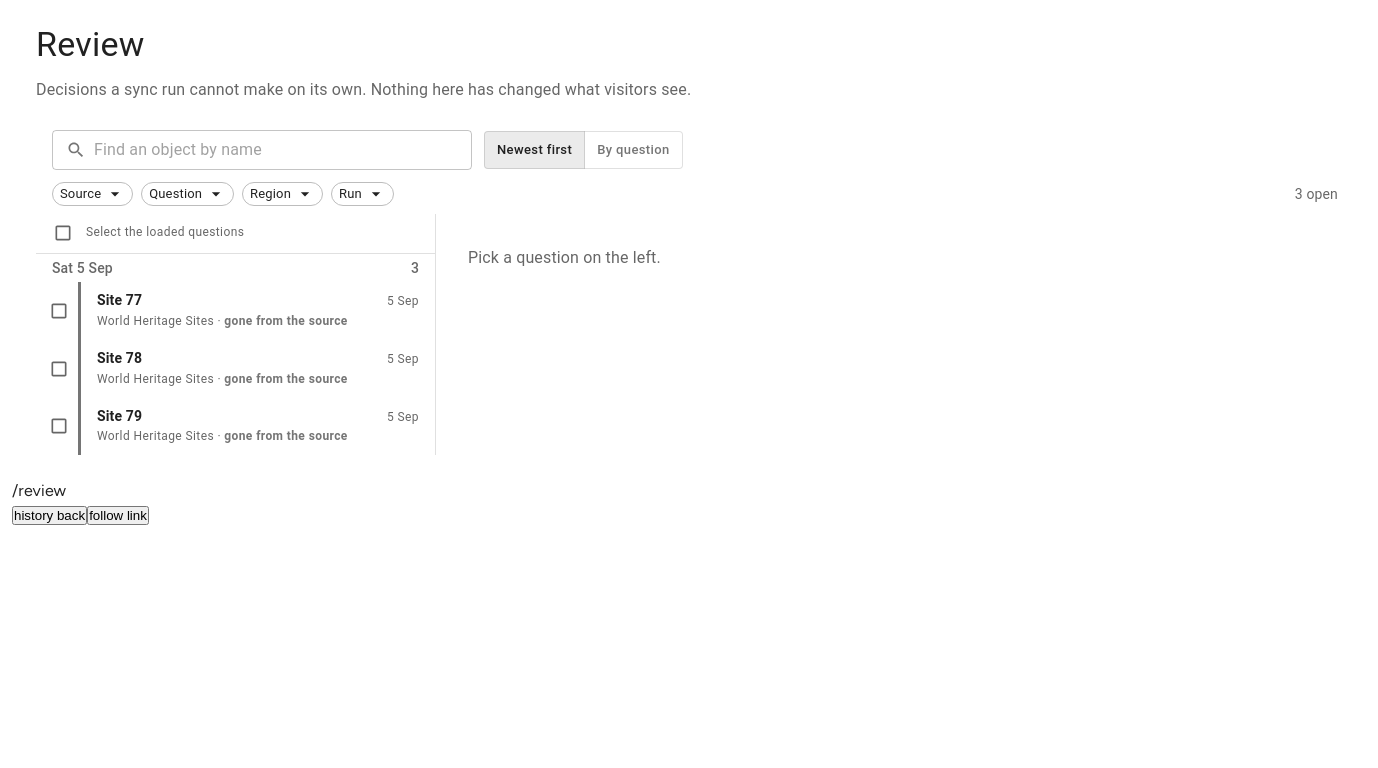
Test: ReviewPage › keeps the row Back restored, even when Back changes the filter with it
Click the button "Site 79 5 Sep World Heritage Sites · gone from the source": (120, 416) left=78, top=398, right=435, bottom=455
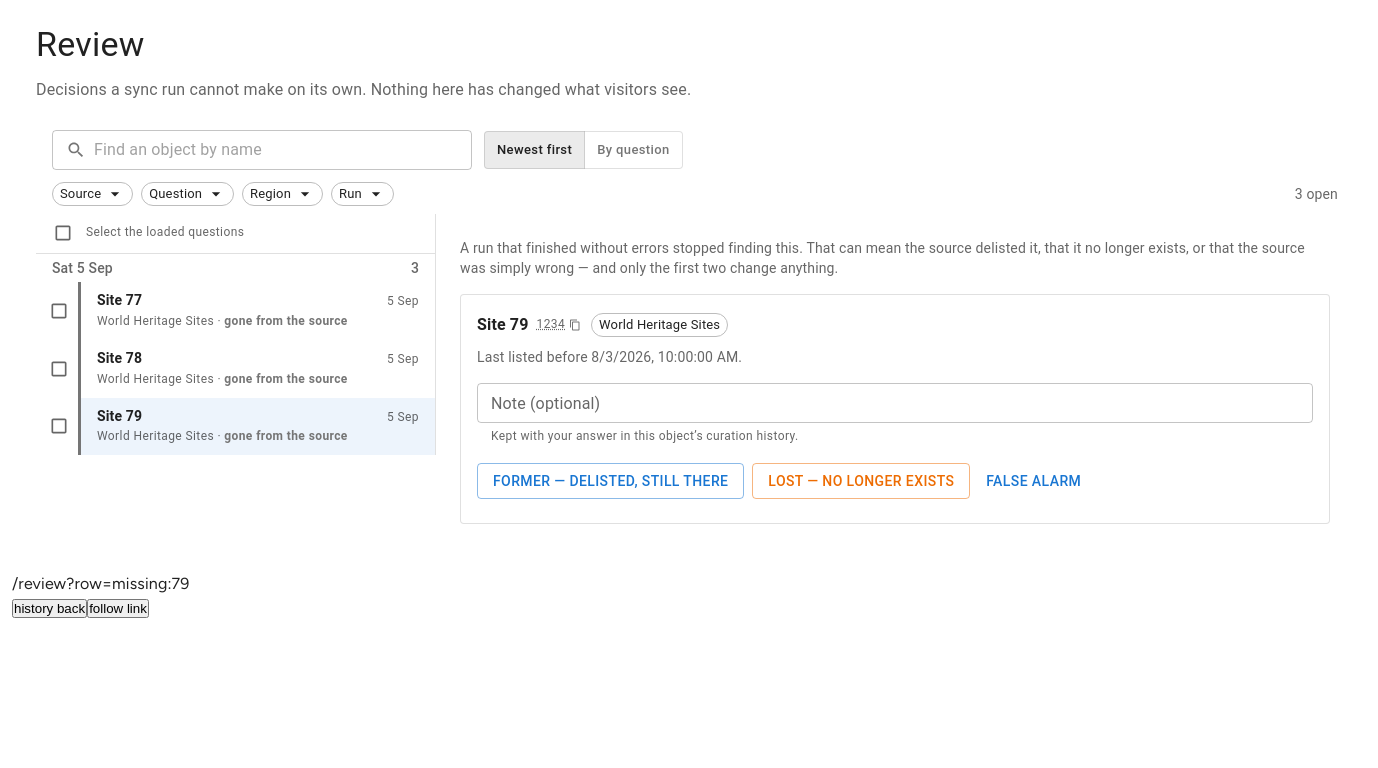
Check: the text with test id "address" reads "/review?row=missing:79", box left=12, top=574, right=190, bottom=593
Click the button "Question": (188, 194) left=141, top=182, right=234, bottom=206
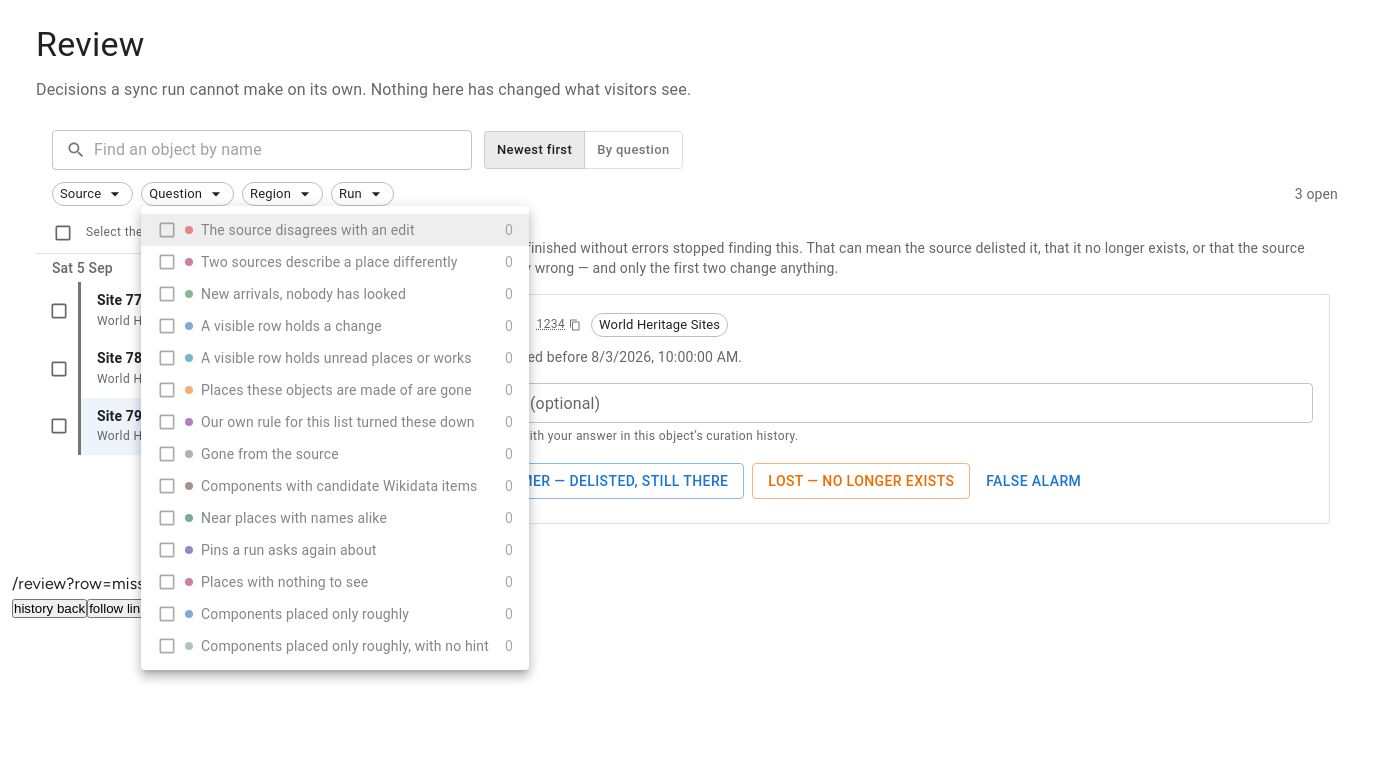
Click the menu item "Gone from the source 0": (335, 454) left=141, top=438, right=529, bottom=470
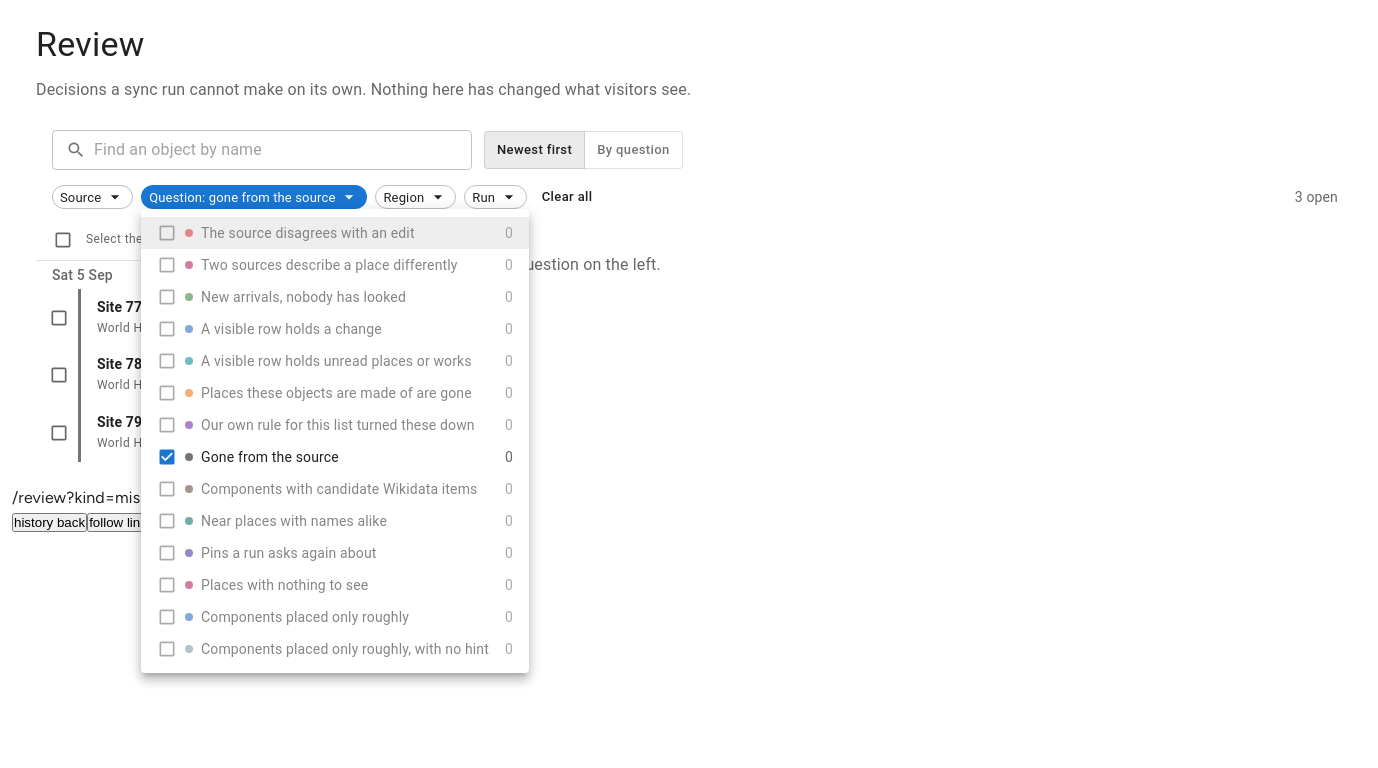
Press Escape in the menu, box left=141, top=209, right=529, bottom=673
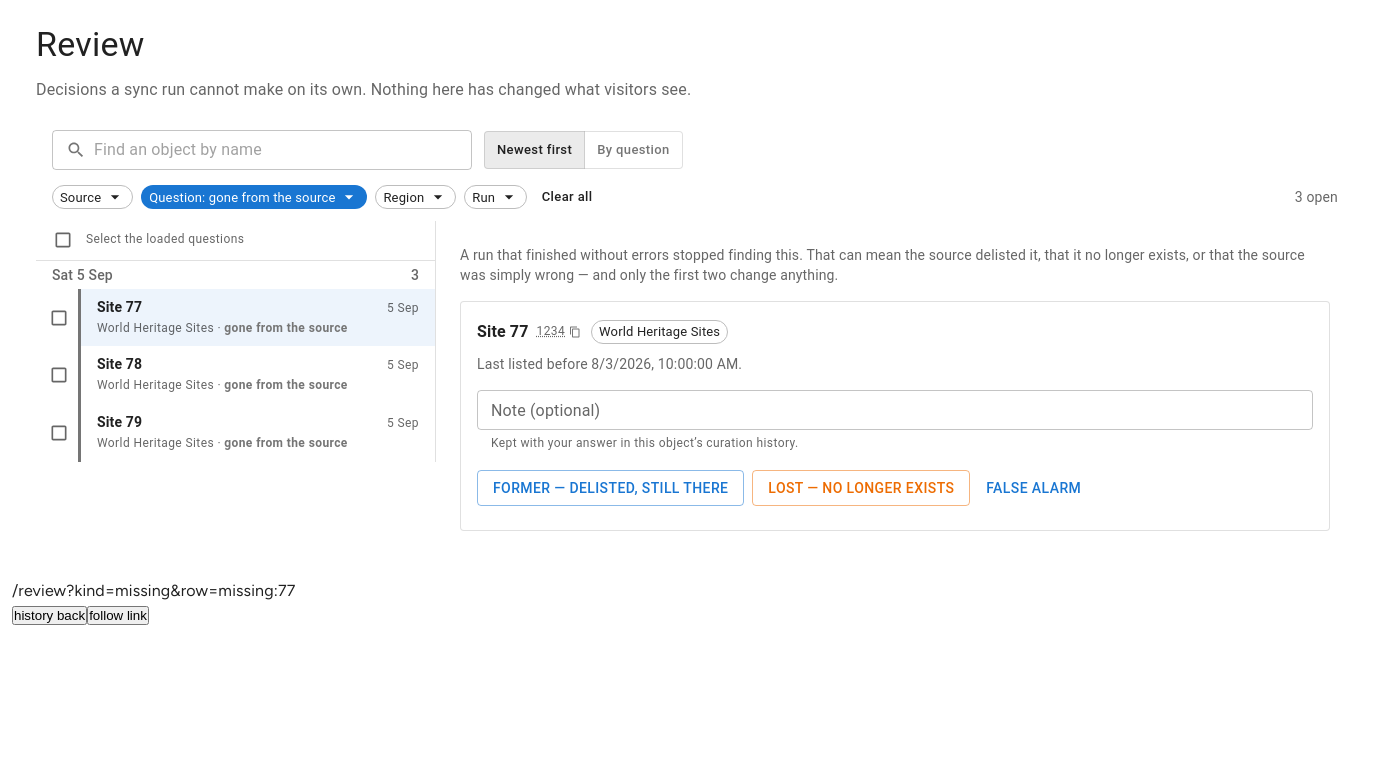
Check: the menu is gone
Check: the text with test id "address" reads "/review?kind=missing&row=missing:77", box left=12, top=581, right=295, bottom=600
Click the button "history back": (50, 616) left=12, top=606, right=87, bottom=625
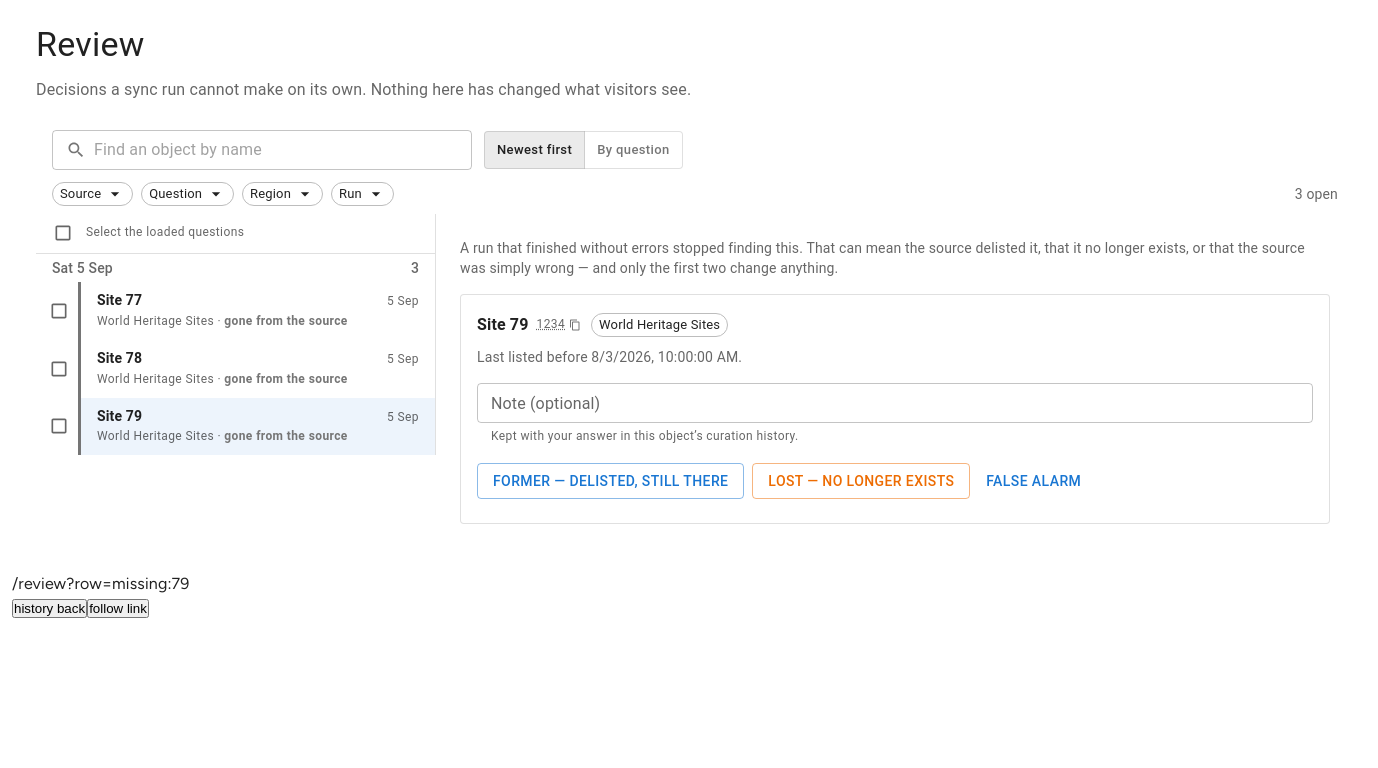
Check: the text with test id "address" reads "/review?row=missing:79", box left=12, top=574, right=190, bottom=593
Click the button "Former — delisted, still there": (611, 481) left=477, top=463, right=744, bottom=499
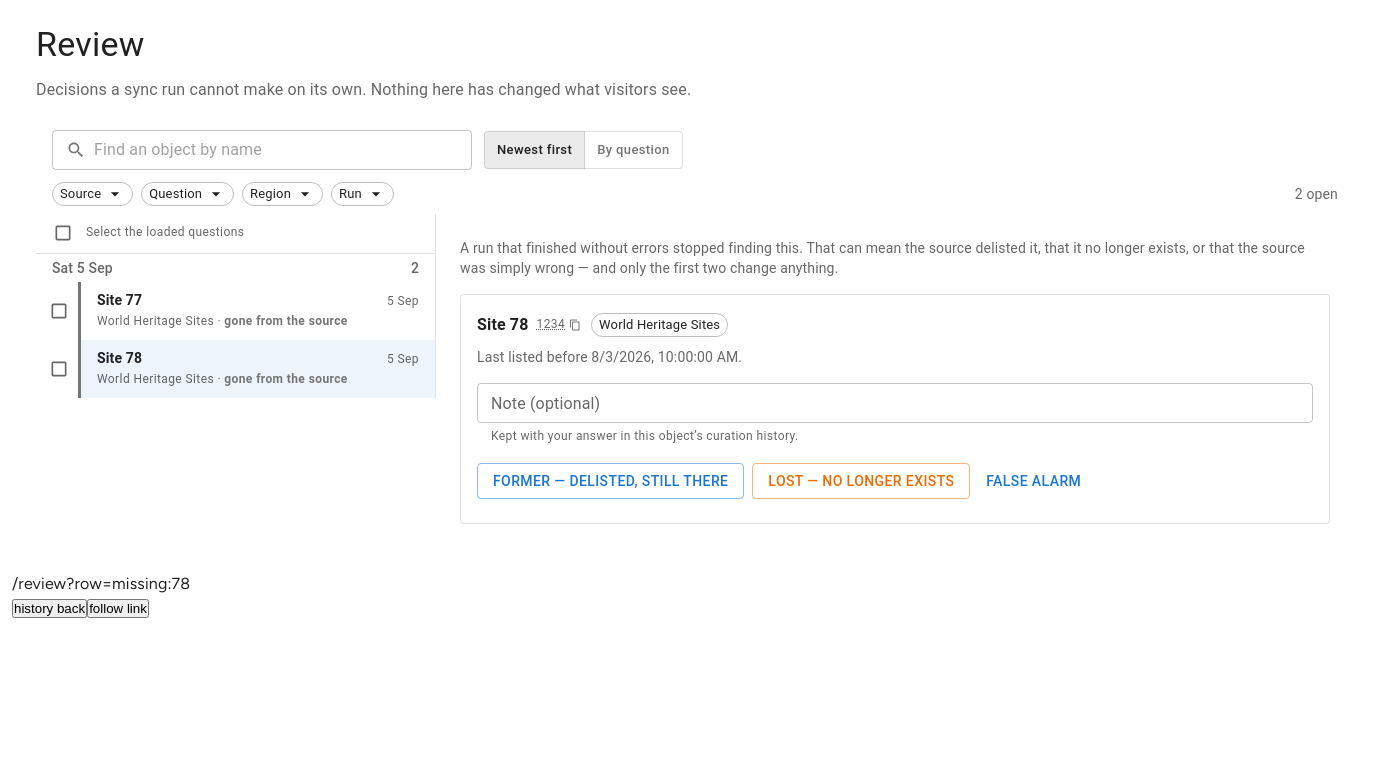
Check: the heading "Site 78" is shown, box left=477, top=311, right=528, bottom=339
Check: the text with test id "address" reads "/review?row=missing:78", box left=12, top=574, right=190, bottom=593
